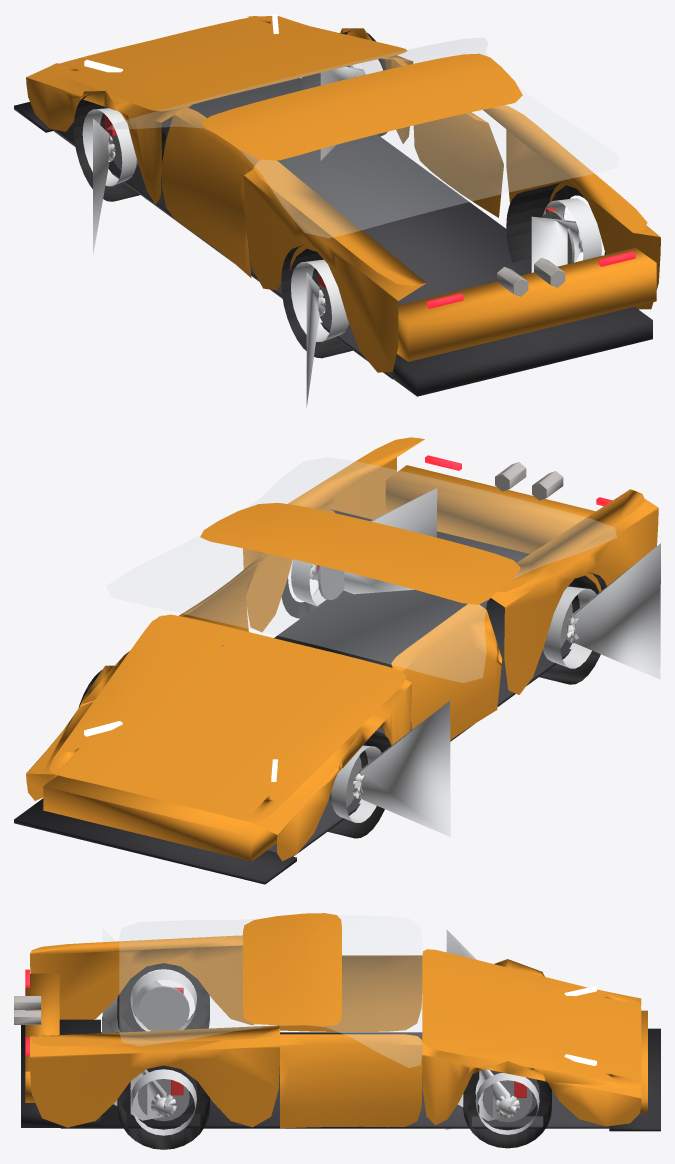
The model's file is vehicle.glb.
3 renders of one model, top to bottom at view 1: azimuth 30°, elevation 25°; view 2: azimuth 150°, elevation 25°; view 3: azimuth 270°, elevation 25°, orthographic. The views are drawn at different scales.
Parts seen in each view (by area): view 1: GLASS_Canopy, BODY_Rear_Quarters, PLATFORM_Underbody, BODY_Roof_Panel, BODY_Hood, BODY_Doors, BODY_Rear_Fascia, AERO_Rear_Diffuser, BODY_Front_Fenders, WHEEL_RR_Rim, WHEEL_RL_Rim, WHEEL_FR_Rim (+6 smaller); view 2: GLASS_Canopy, BODY_Hood, BODY_Rear_Quarters, BODY_Roof_Panel, BODY_Doors, PLATFORM_Underbody, WHEEL_RR_Rim, WHEEL_FR_Rim, BODY_Rear_Fascia, BODY_Front_Fenders, BODY_Front_Fascia, AERO_Front_Splitter (+7 smaller); view 3: BODY_Rear_Quarters, GLASS_Canopy, BODY_Hood, BODY_Doors, BODY_Roof_Panel, BODY_Front_Fenders, PLATFORM_Underbody, WHEEL_RL_Rim, WHEEL_FL_Tire, WHEEL_RL_Tire, WHEEL_FL_Rim, BODY_Rear_Fascia (+11 smaller).
Part boxes in pixels (box(x1,y1,x2,y2)): GLASS_Canopy: box(107, 38, 618, 237); BODY_Rear_Quarters: box(243, 105, 660, 372); PLATFORM_Underbody: box(54, 78, 531, 379); BODY_Roof_Panel: box(201, 53, 522, 160); BODY_Hood: box(49, 16, 407, 111); BODY_Doors: box(162, 57, 503, 278); BODY_Rear_Fascia: box(397, 247, 656, 361); AERO_Rear_Diffuser: box(388, 307, 652, 396); BODY_Front_Fenders: box(26, 16, 413, 204); WHEEL_RR_Rim: box(291, 259, 348, 406); WHEEL_RL_Rim: box(531, 198, 601, 272); WHEEL_FR_Rim: box(82, 108, 136, 254); GLASS_Canopy: box(106, 457, 616, 682); BODY_Hood: box(49, 614, 405, 821); BODY_Rear_Quarters: box(243, 437, 658, 694); BODY_Roof_Panel: box(200, 503, 520, 604); BODY_Doors: box(179, 553, 502, 740); PLATFORM_Underbody: box(267, 589, 571, 856); WHEEL_RR_Rim: box(543, 543, 660, 679); WHEEL_FR_Rim: box(331, 701, 450, 836); BODY_Rear_Fascia: box(385, 465, 595, 553); BODY_Front_Fenders: box(26, 615, 411, 861); BODY_Front_Fascia: box(43, 775, 277, 861); AERO_Front_Splitter: box(14, 798, 296, 884); BODY_Rear_Quarters: box(30, 935, 279, 1127); GLASS_Canopy: box(119, 915, 421, 1067); BODY_Hood: box(422, 949, 641, 1084); BODY_Doors: box(280, 955, 422, 1128); BODY_Roof_Panel: box(243, 913, 341, 1025); BODY_Front_Fenders: box(422, 949, 641, 1126); PLATFORM_Underbody: box(60, 1032, 609, 1128); WHEEL_RL_Rim: box(102, 1016, 196, 1135); WHEEL_FL_Tire: box(463, 1071, 551, 1148); WHEEL_RL_Tire: box(117, 1080, 209, 1149); WHEEL_FL_Rim: box(445, 1018, 539, 1134); BODY_Rear_Fascia: box(25, 973, 59, 1102).
Size of the model in its own units: 2.86 by 1.3 by 5.23.
